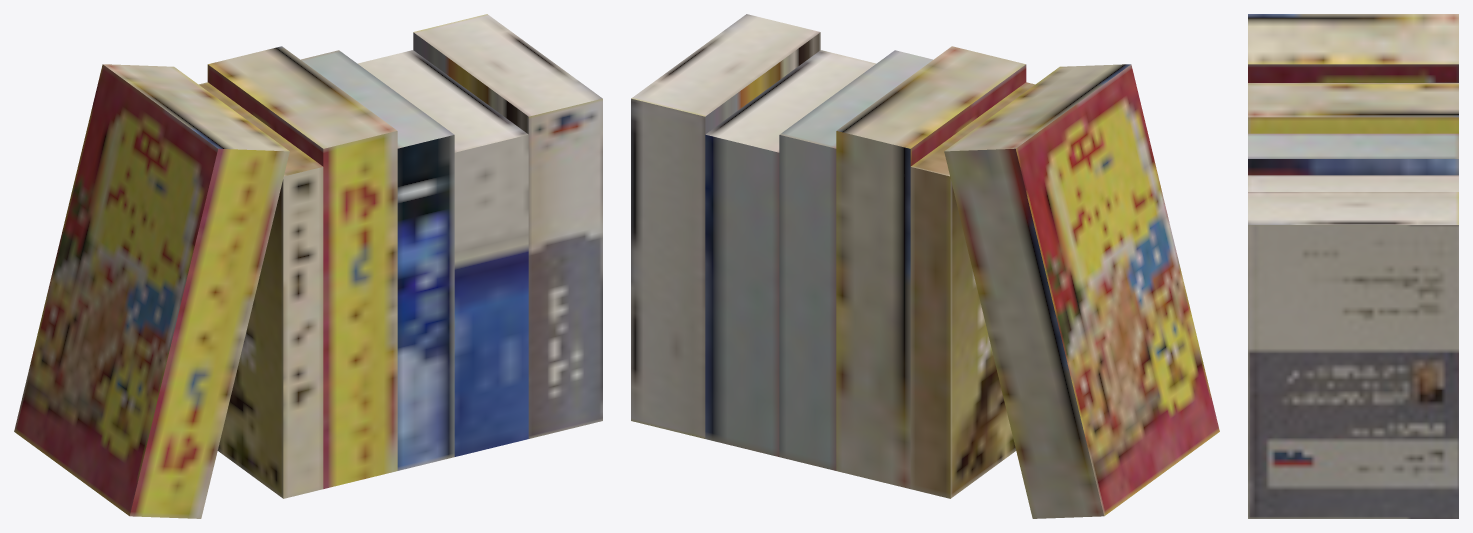
Rendered from BookStack01c.obj.
3 renders of one model, left to right at view 1: azimuth 30°, elevation 25°; view 2: azimuth 150°, elevation 25°; view 3: azimuth 270°, elevation 25°, orthographic. The views are drawn at different scales.
Visible parts, largest first — view 1: BookStack01c; view 2: BookStack01c; view 3: BookStack01c.
Part boxes in pixels (<box>): BookStack01c: <box>14,14,602,518</box>; BookStack01c: <box>631,14,1219,518</box>; BookStack01c: <box>1248,14,1458,518</box>.
Size of the model in its own units: 0.6914 by 0.511 by 0.2925.
